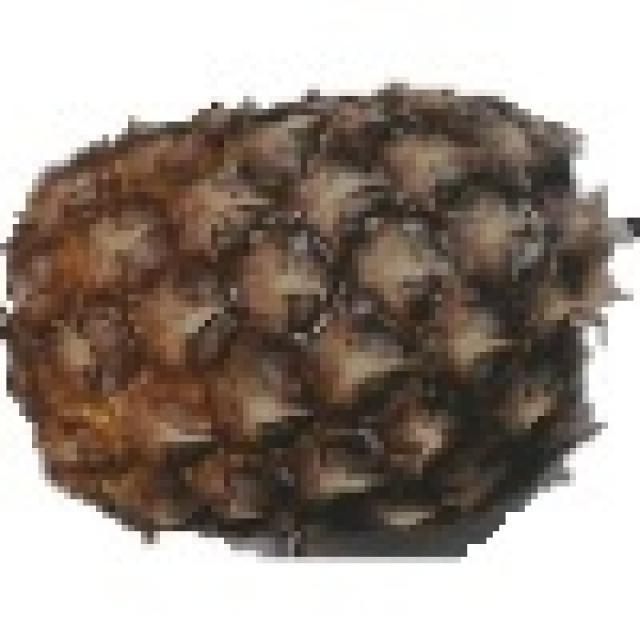pineapple: (0, 77, 595, 538)
